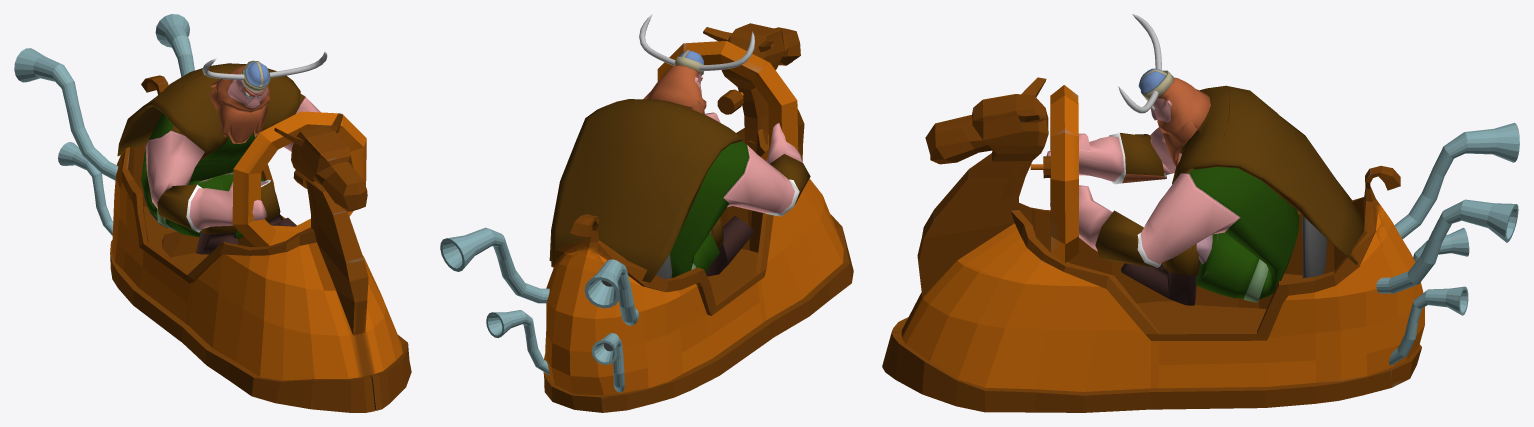
Rendered from vikingoVacile_000438.obj.
The picture shows the model from 3 angles, left to right: view 1: azimuth 30°, elevation 25°; view 2: azimuth 150°, elevation 25°; view 3: azimuth 270°, elevation 25°; orthographic projection. The views are drawn at different scales.
Parts seen in each view (by area): view 1: kartVikingo, Vikingo; view 2: kartVikingo, Vikingo; view 3: kartVikingo, Vikingo.
Part boxes in pixels (<box>): kartVikingo: <box>14,14,411,412</box>; Vikingo: <box>117,51,327,254</box>; kartVikingo: <box>440,23,853,412</box>; Vikingo: <box>549,14,810,282</box>; kartVikingo: <box>882,77,1519,412</box>; Vikingo: <box>1046,14,1364,305</box>.
Bounding box in the file's own units: 4.16 × 5.84 × 10.31.
Materials: 2 (2 with a texture image).
